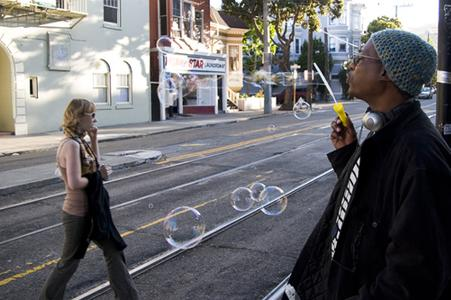person: (268, 31, 450, 300)
